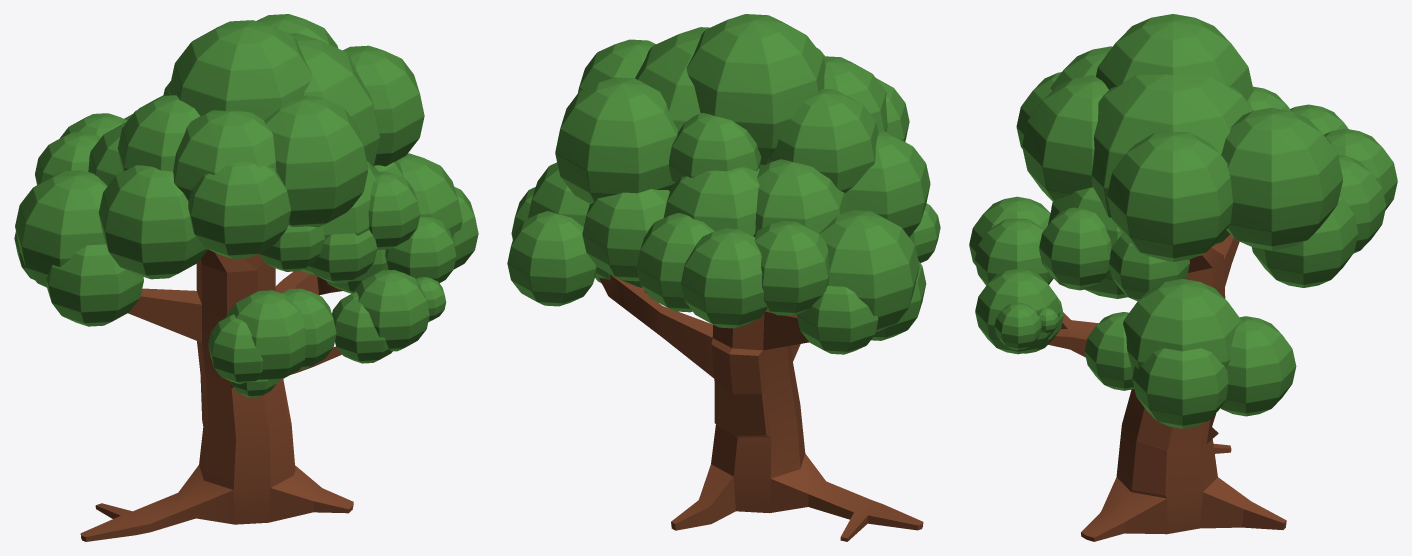
The model's file is ThiccTree.fbx.
3 renders of one model, left to right at view 1: azimuth 30°, elevation 25°; view 2: azimuth 150°, elevation 25°; view 3: azimuth 270°, elevation 25°, orthographic. The views are drawn at different scales.
Parts seen in each view (by area): view 1: pSphere67; view 2: pSphere67; view 3: pSphere67.
Part boxes in pixels (x1,y1,x2,y2): pSphere67: (14, 14, 478, 541); pSphere67: (507, 14, 940, 541); pSphere67: (969, 14, 1397, 541).
Bounding box in the file's own units: 14.48 × 15.6 × 12.21.
1 material, 1 textured.
